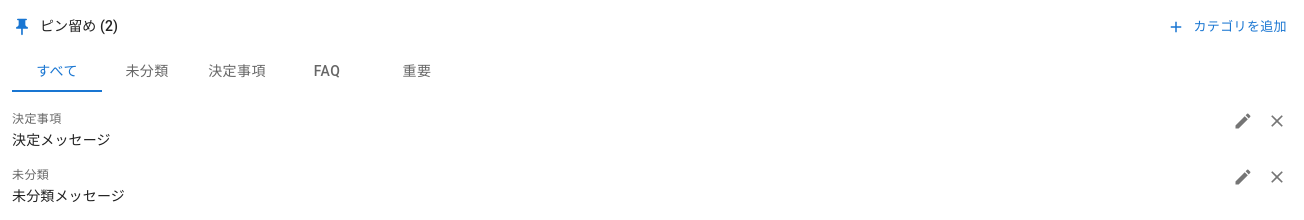
Scenario: PinnedMessages › カテゴリタブによる絞り込み › 該当するピンがないカテゴリでは空状態を表示する
The image size is (1304, 220).
Click the tab "FAQ" at [327, 72], box [282,51,372,92]
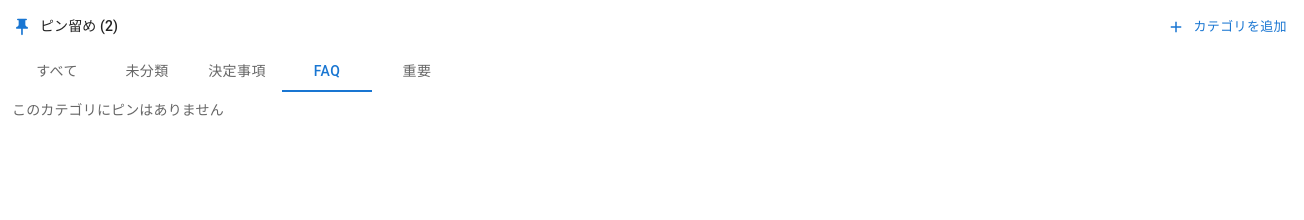
Expected: the text "このカテゴリにピンはありません" is shown, [12,102,224,118]
